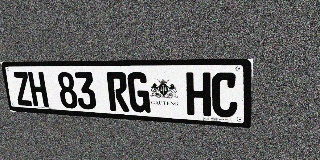3: (74, 72, 97, 110)
8: (56, 72, 78, 109)
C: (212, 72, 238, 118)
G: (127, 72, 151, 113)
H: (186, 72, 211, 116), (28, 72, 49, 107)
R: (106, 72, 129, 112)
Z: (12, 72, 33, 106)
